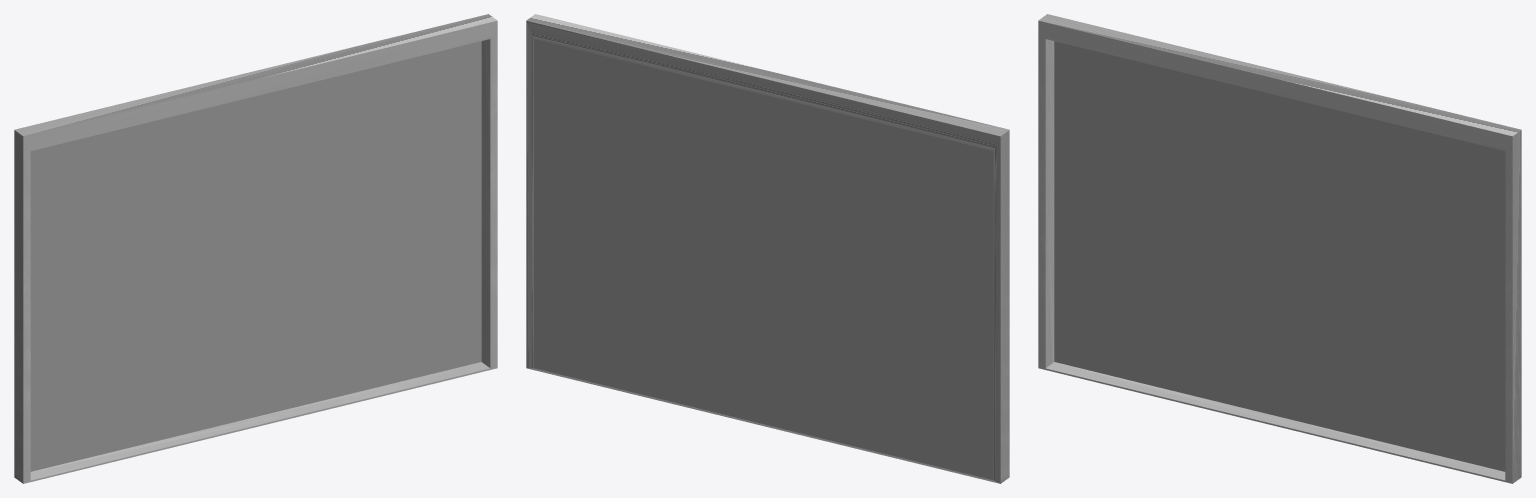
The model's file is glassWall 1.fbx.
The picture shows the model from 3 angles, left to right: view 1: azimuth 30°, elevation 25°; view 2: azimuth 150°, elevation 25°; view 3: azimuth 330°, elevation 25°; orthographic projection.
Parts seen in each view (by area): view 1: glass, glassWallBig7; view 2: glass, glassWallBig7; view 3: glass, glassWallBig7.
Boxes of the visible parts, x1,y1,x2,y2 form: glass: (30, 41, 481, 471); glassWallBig7: (14, 14, 497, 483); glass: (534, 39, 993, 480); glassWallBig7: (526, 14, 1009, 483); glass: (1054, 41, 1505, 471); glassWallBig7: (1038, 14, 1521, 483).
Size of the model in its own units: 1000 by 700 by 33.33.
